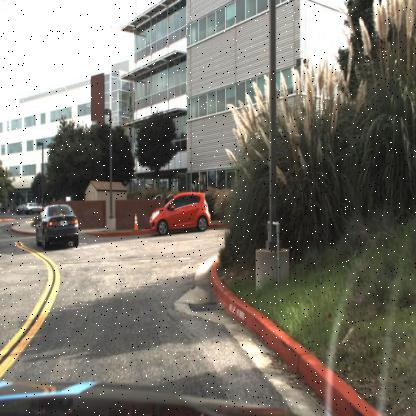car: (147, 190, 211, 238), (35, 201, 79, 251)
